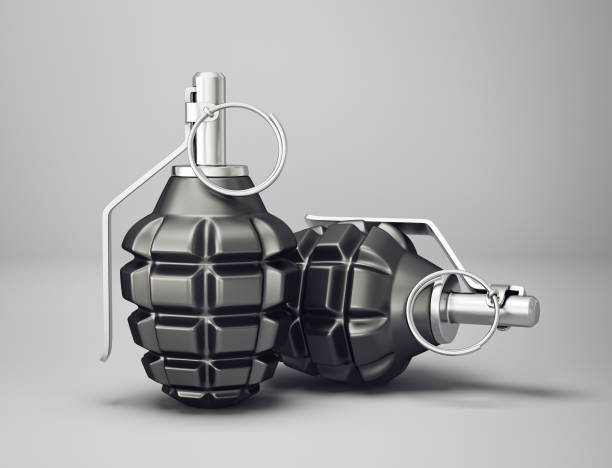e1: (93, 65, 293, 413), (287, 210, 541, 381)
